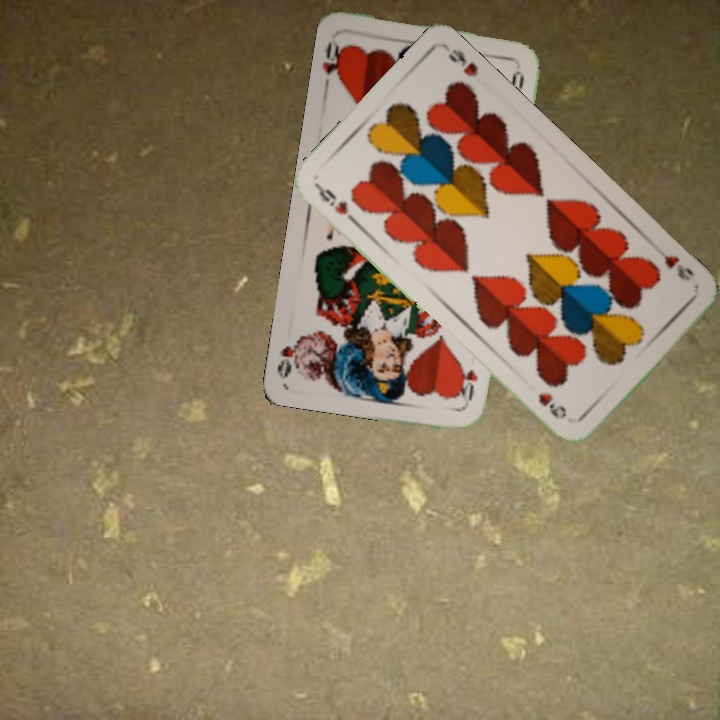H9: (312, 181, 351, 218), (659, 251, 697, 284)
HO: (318, 34, 348, 93), (456, 362, 480, 403)
